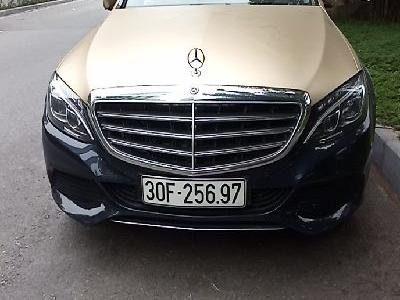car: (141, 175, 248, 210)
